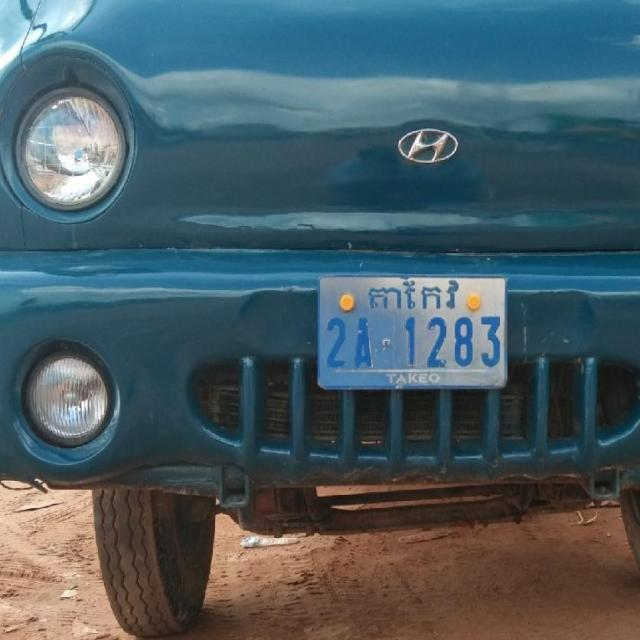Takeo: (368, 280, 458, 312)
